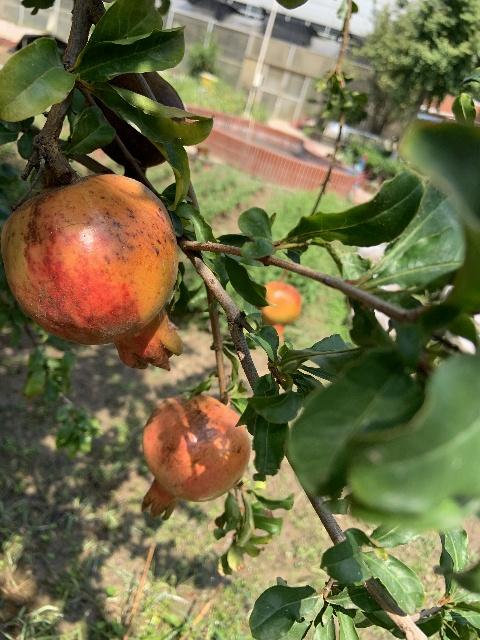ripe: (0, 173, 182, 370), (140, 393, 250, 520), (258, 280, 302, 343)
